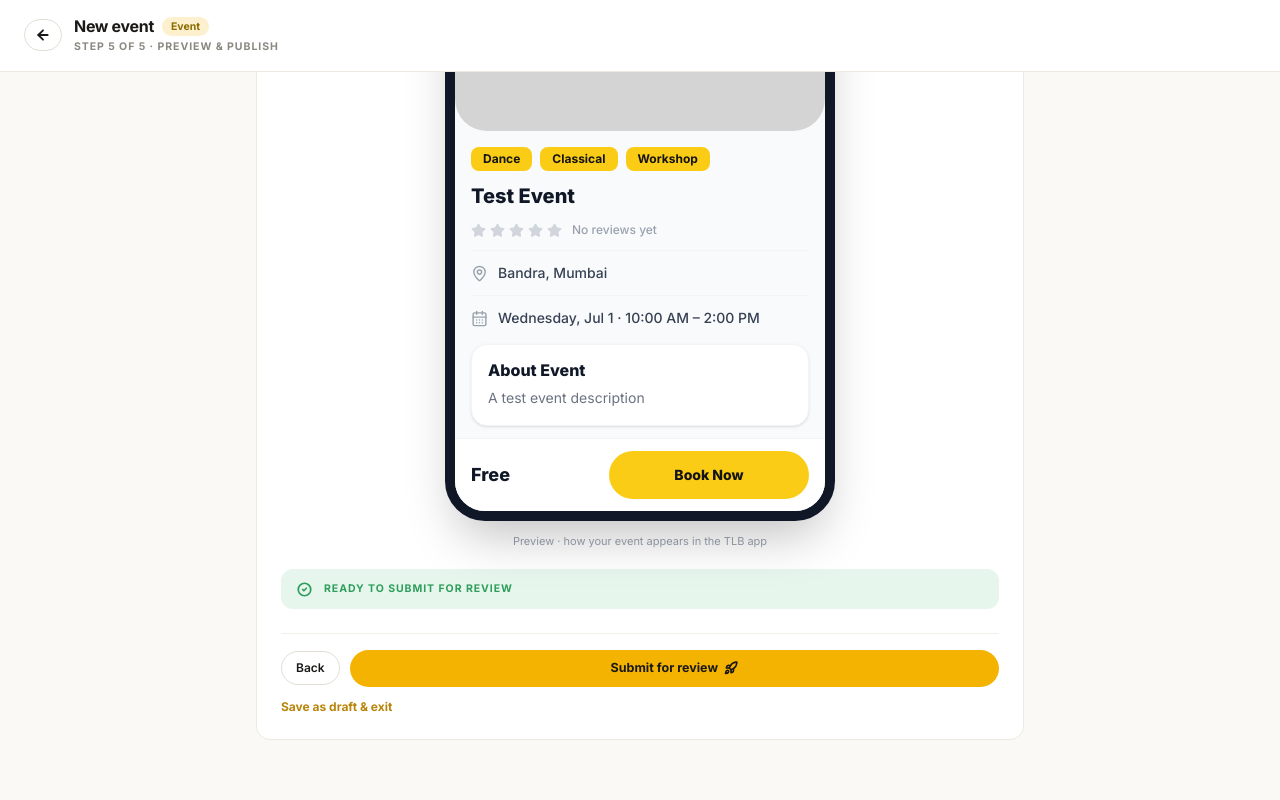
Test: CreateEventPreview — submit modals › shows Profile Under Review modal when PARTNER_UNDER_REVIEW error code
(page scrolled)
Click the button "Submit for review". click: point(674, 668)
box: [350,650,999,687]
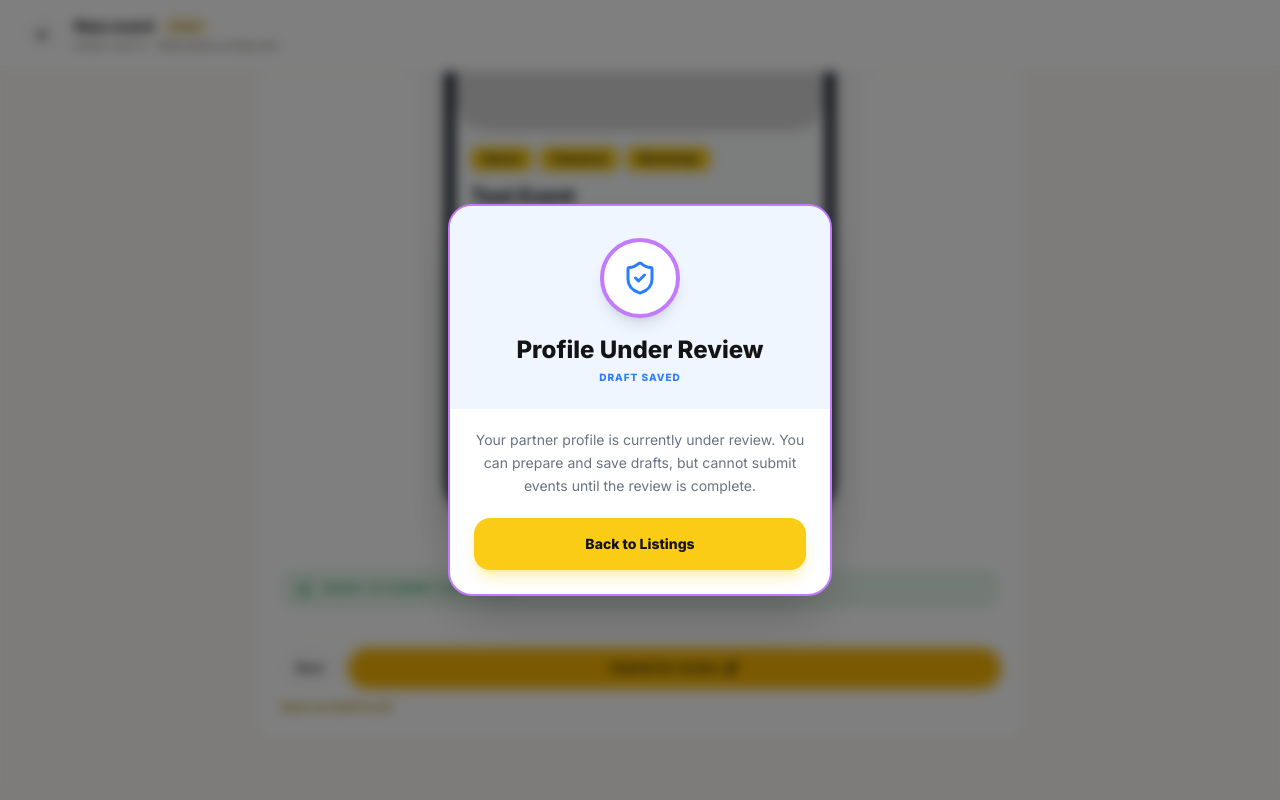
Now the heading "Profile Under Review" is shown, box [516,334,764,366]
